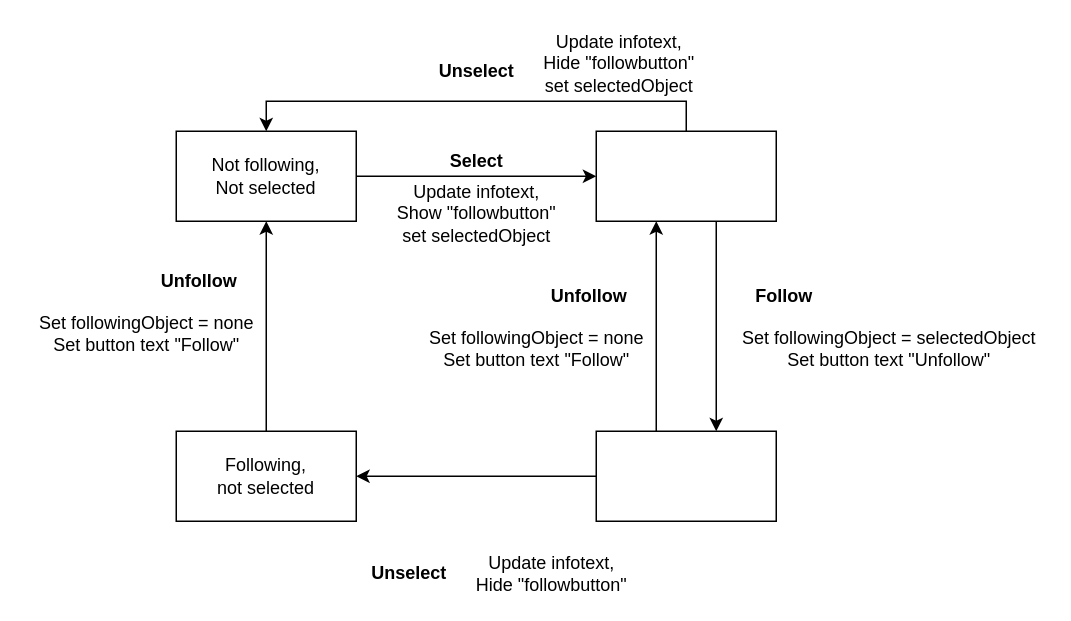
Image size: 1071x621. Some labels were removed from this diagram. The box of each missing label's shape, as (x1, y1, x2, y2) in pixels:
Following, object selected: (595, 430, 776, 521)
Not following, Object Selected: (595, 130, 776, 221)
